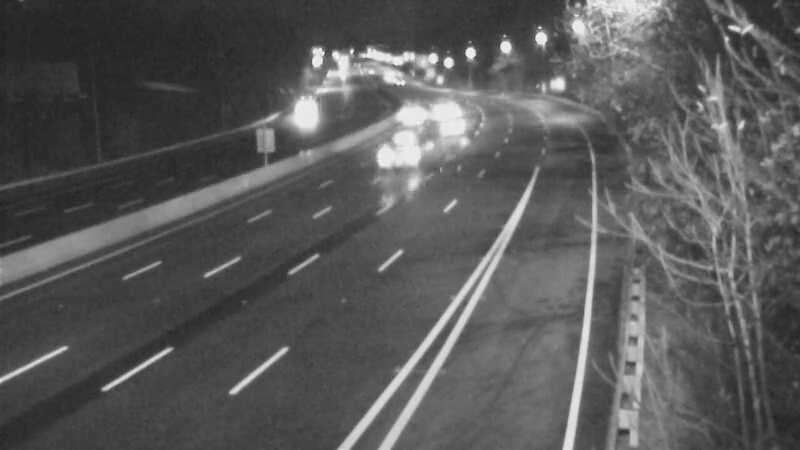vehicle: (365, 111, 445, 191), (373, 55, 423, 105), (420, 84, 470, 134), (387, 90, 437, 140), (433, 102, 483, 152), (278, 92, 328, 142)
